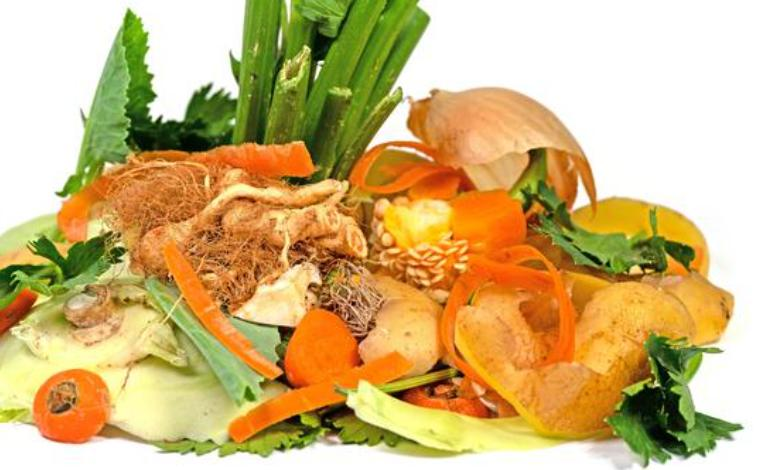organic: (343, 92, 735, 451), (350, 89, 590, 226), (327, 6, 432, 176), (145, 273, 277, 408), (269, 367, 455, 437), (268, 3, 318, 145), (365, 368, 454, 394), (151, 283, 188, 326)
